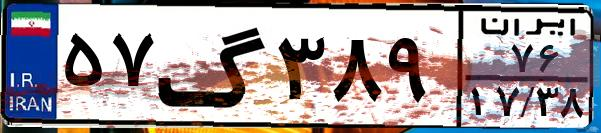1: (470, 70, 495, 125)
3: (270, 28, 330, 110), (535, 70, 560, 125)
5: (57, 26, 110, 100)
6: (537, 27, 568, 80)
7: (110, 28, 156, 98), (508, 27, 537, 80), (495, 70, 520, 125)
8: (330, 28, 385, 110), (560, 70, 590, 125)
9: (385, 28, 445, 110)
گ: (156, 12, 270, 120)
